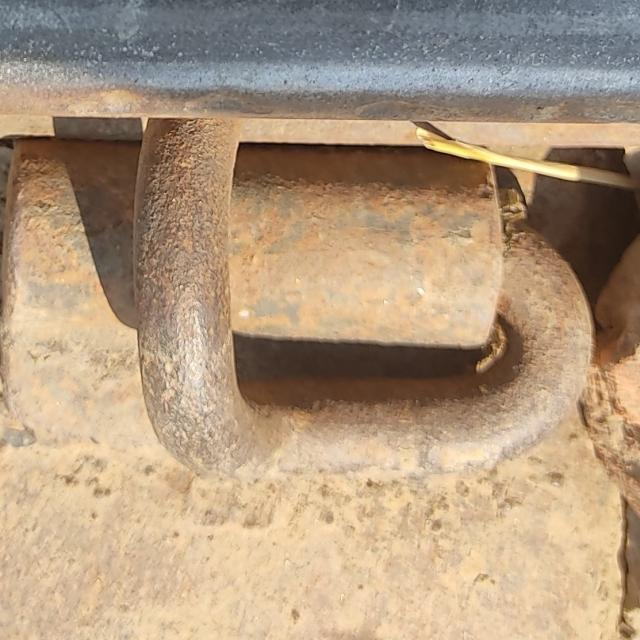track_bolt: (125, 118, 598, 484)
